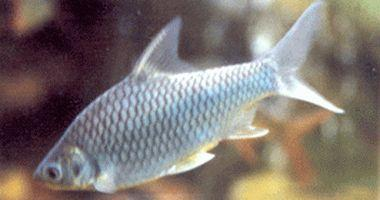Silver Barb: (30, 3, 345, 194)
